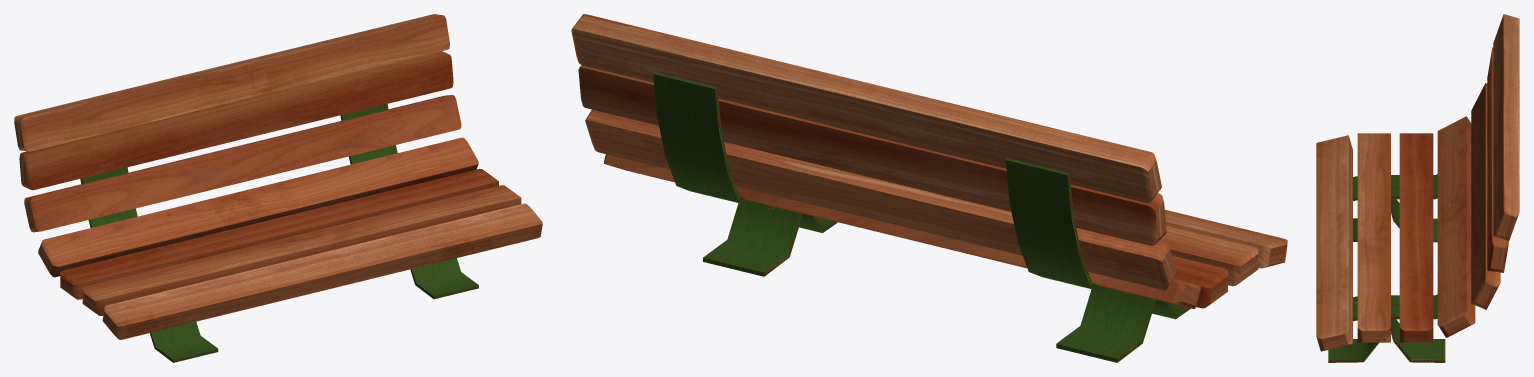
The model's file is bench.FBX.
The picture shows the model from 3 angles, left to right: view 1: azimuth 30°, elevation 25°; view 2: azimuth 150°, elevation 25°; view 3: azimuth 270°, elevation 25°; orthographic projection. The views are drawn at different scales.
Visible parts, largest first — view 1: Box005; view 2: Box005; view 3: Box005.
Part boxes in pixels (bbox=[...]): Box005: bbox=[14, 14, 542, 362]; Box005: bbox=[571, 14, 1287, 362]; Box005: bbox=[1316, 14, 1519, 362].
Bounding box in the file's own units: 3527 × 1517 × 1538.
